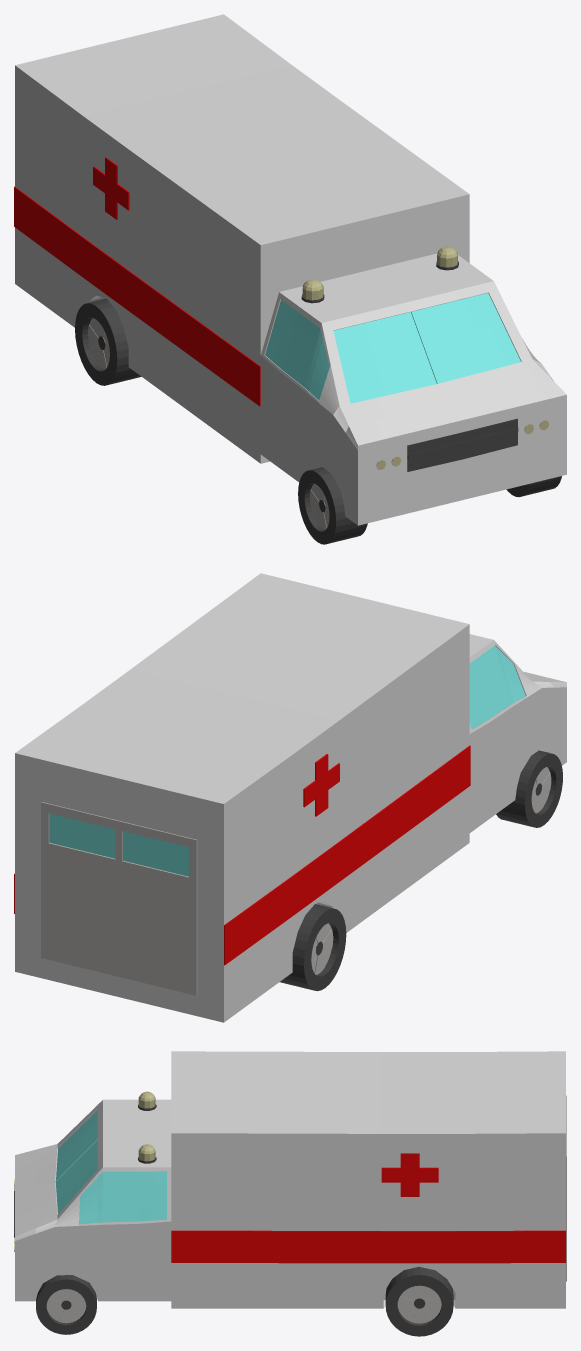
Rendered from Ambulancia_LP.fbx.
3 views of the same model, one above another, from view 1: azimuth 30°, elevation 25°; view 2: azimuth 150°, elevation 25°; view 3: azimuth 270°, elevation 25° (orthographic). The views are drawn at different scales.
Visible parts, largest first — view 1: Cube; view 2: Cube; view 3: Cube.
Part boxes in pixels (x1,y1,x2,y2): Cube: (14,14,566,544); Cube: (14,573,566,1022); Cube: (14,1051,566,1336).
Bounding box in the file's own units: 988 × 1024 × 2573.
